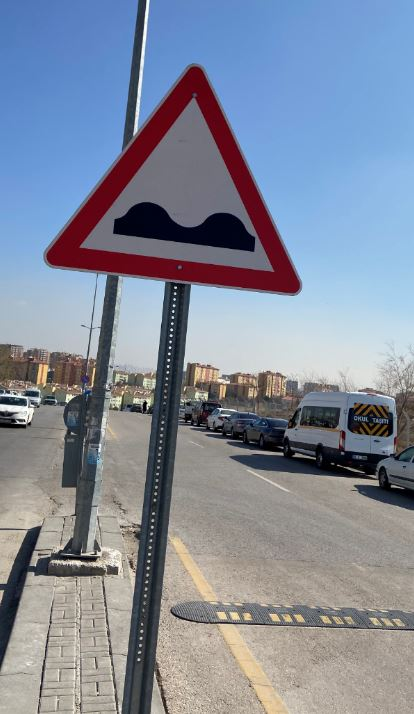Kasisli Yol: (47, 48, 303, 292)
